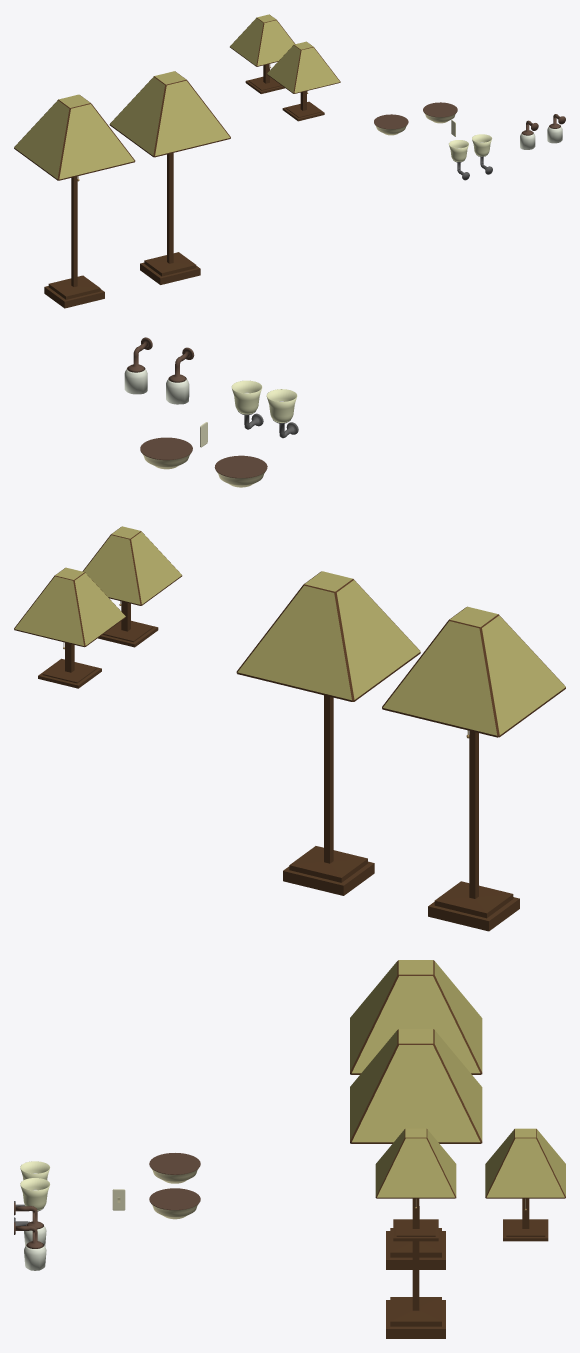
The model's file is SomnusLights.fbx.
3 renders of one model, top to bottom at view 1: azimuth 30°, elevation 25°; view 2: azimuth 150°, elevation 25°; view 3: azimuth 270°, elevation 25°, orthographic. The views are drawn at different scales.
Visible parts, largest first — view 1: Cube.016, Cube.015, Cube.003, Cube.017, Cube.014, Cube.009, Cube.004, Cube.013, Cube.018, Cube.008, Cube.011, Cube; view 2: Cube.015, Cube.016, Cube.009, Cube.003, Cube.017, Cube.014, Cube.008, Cube.018, Cube.013, Cube.004, Cube.011, Cube (+2 smaller); view 3: Cube.015, Cube.016, Cube.003, Cube.009, Cube.014, Cube.017, Cube.004, Cube.008, Cube, Cube.011, Cube.013, Sphere.001 (+4 smaller).
Boxes of the visible parts, x1,y1,x2,y2 form: Cube.016: (14,94,134,179); Cube.015: (110,71,230,155); Cube.003: (267,41,339,93); Cube.017: (44,176,104,308); Cube.014: (140,153,200,284); Cube.009: (230,14,294,65); Cube.004: (282,91,324,121); Cube.013: (109,71,230,157); Cube.018: (14,95,135,180); Cube.008: (245,64,285,93); Cube.011: (374,114,408,129); Cube: (423,102,457,117); Cube.015: (237,571,420,700); Cube.016: (383,606,565,735); Cube.009: (14,567,125,645); Cube.003: (83,526,181,604); Cube.017: (428,731,519,931); Cube.014: (283,695,374,895); Cube.008: (38,642,101,688); Cube.018: (382,607,565,737); Cube.013: (236,571,420,701); Cube.004: (98,539,158,647); Cube.011: (214,455,267,478); Cube: (140,437,192,460); Cube.015: (350,1029,482,1142); Cube.016: (350,960,482,1073); Cube.003: (375,1128,456,1197); Cube.009: (485,1128,565,1197); Cube.014: (386,1241,445,1338); Cube.017: (386,1228,445,1269); Cube.004: (393,1198,438,1241); Cube.008: (503,1198,548,1241); Cube: (149,1188,200,1210); Cube.011: (149,1153,200,1174); Cube.013: (350,1029,482,1143); Sphere.001: (20,1178,50,1210).
Bounding box in the file's own units: 869 × 408 × 708.
